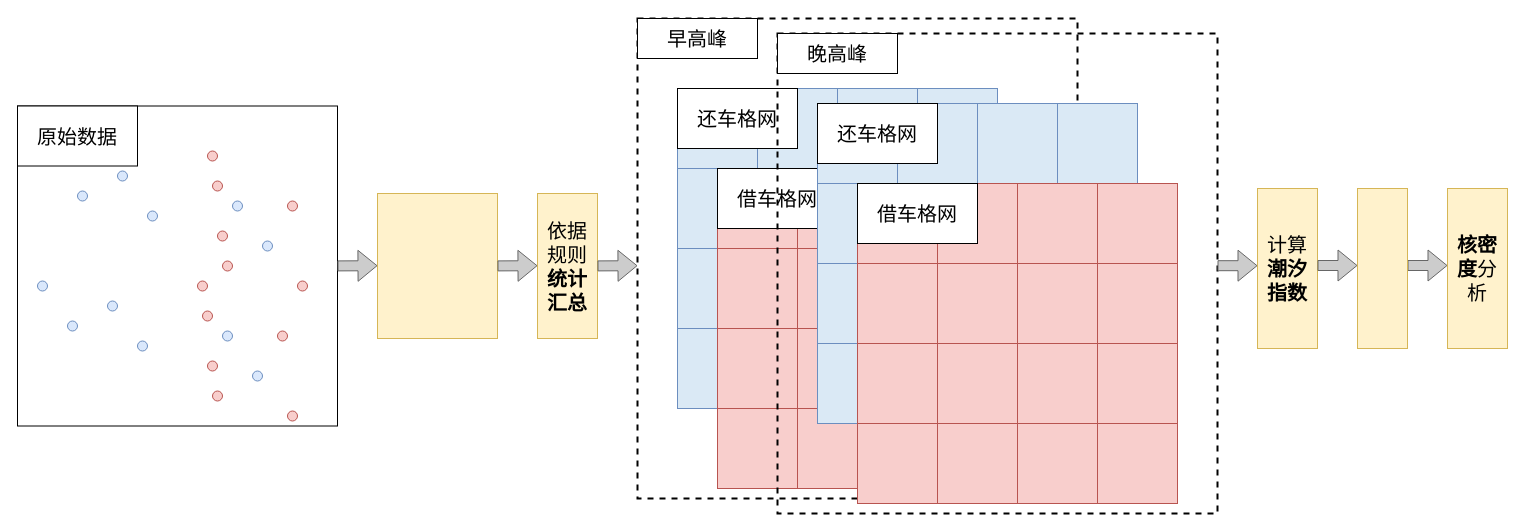
This 1525x531 diagram has some shape labels left out. The shapes that lost their labels are listed below. From the top down, each one's box as (x1, y1, x2, y2) in pixels, then its label:
(376, 192, 498, 338): 依据时间窗口、空间范围及分辨率 划分规则格网
(1356, 188, 1408, 348): 提取潮汐点
